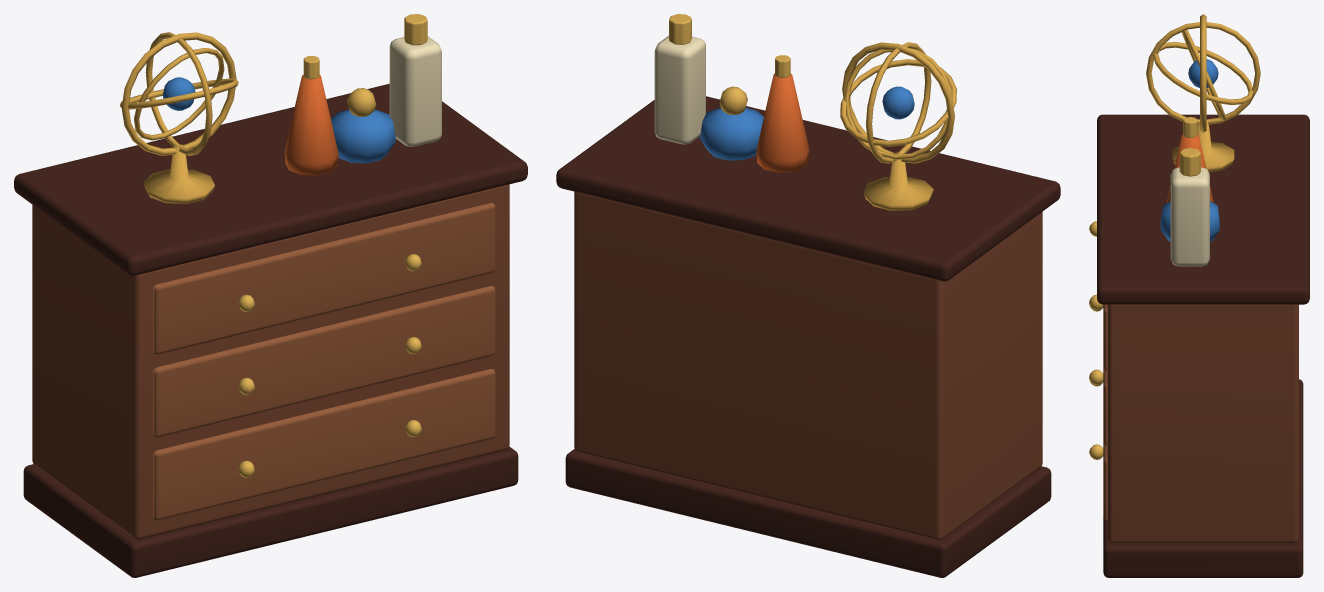
File: chest-armillary.glb
The picture shows the model from 3 angles, left to right: view 1: azimuth 30°, elevation 25°; view 2: azimuth 150°, elevation 25°; view 3: azimuth 270°, elevation 25°; orthographic projection. The views are drawn at different scales.
Visible parts, largest first — view 1: chest-armillary; view 2: chest-armillary; view 3: chest-armillary.
Part boxes in pixels (left/top/right/bottom): chest-armillary: left=14, top=14, right=527, bottom=577; chest-armillary: left=556, top=14, right=1060, bottom=577; chest-armillary: left=1089, top=14, right=1309, bottom=577.
Bounding box in the file's own units: 0.96 × 1.1 × 0.508.
